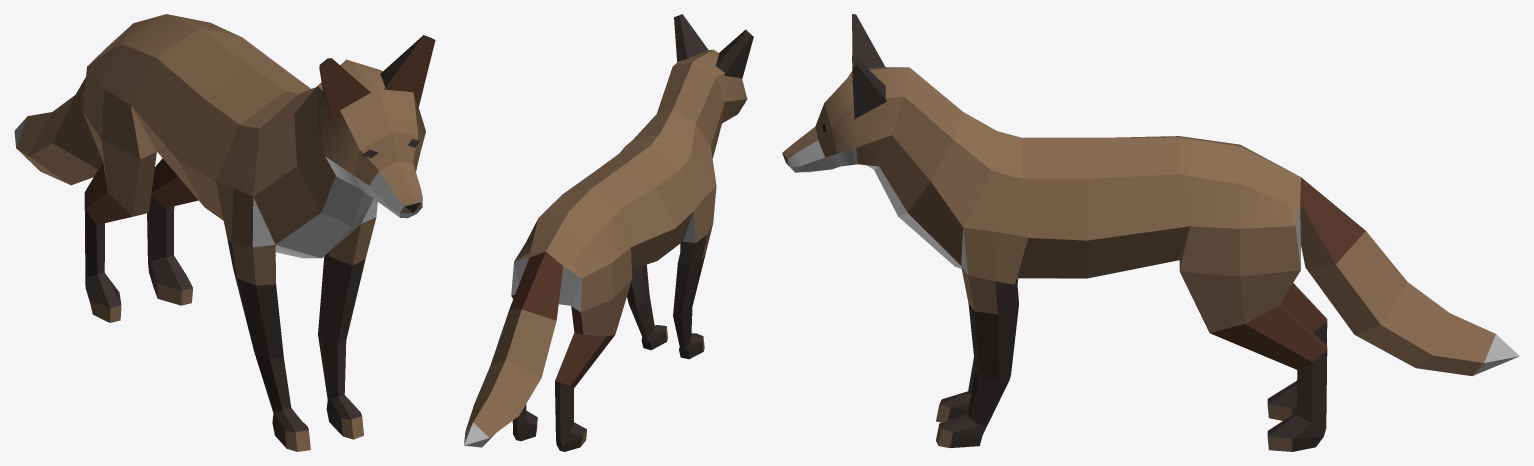
File: Mesh_Fox.gltf
3 renders of one model, left to right at view 1: azimuth 30°, elevation 25°; view 2: azimuth 150°, elevation 25°; view 3: azimuth 270°, elevation 25°, orthographic. The views are drawn at different scales.
Visible parts, largest first — view 1: node-0; view 2: node-0; view 3: node-0.
Boxes of the visible parts, x1=… form: node-0: x1=14, y1=14, x2=435, y2=451; node-0: x1=464, y1=14, x2=753, y2=451; node-0: x1=782, y1=14, x2=1519, y2=451.
Size of the model in its own units: 19.71 by 56.4 by 94.94.
Materials: 1 (1 with a texture image).
